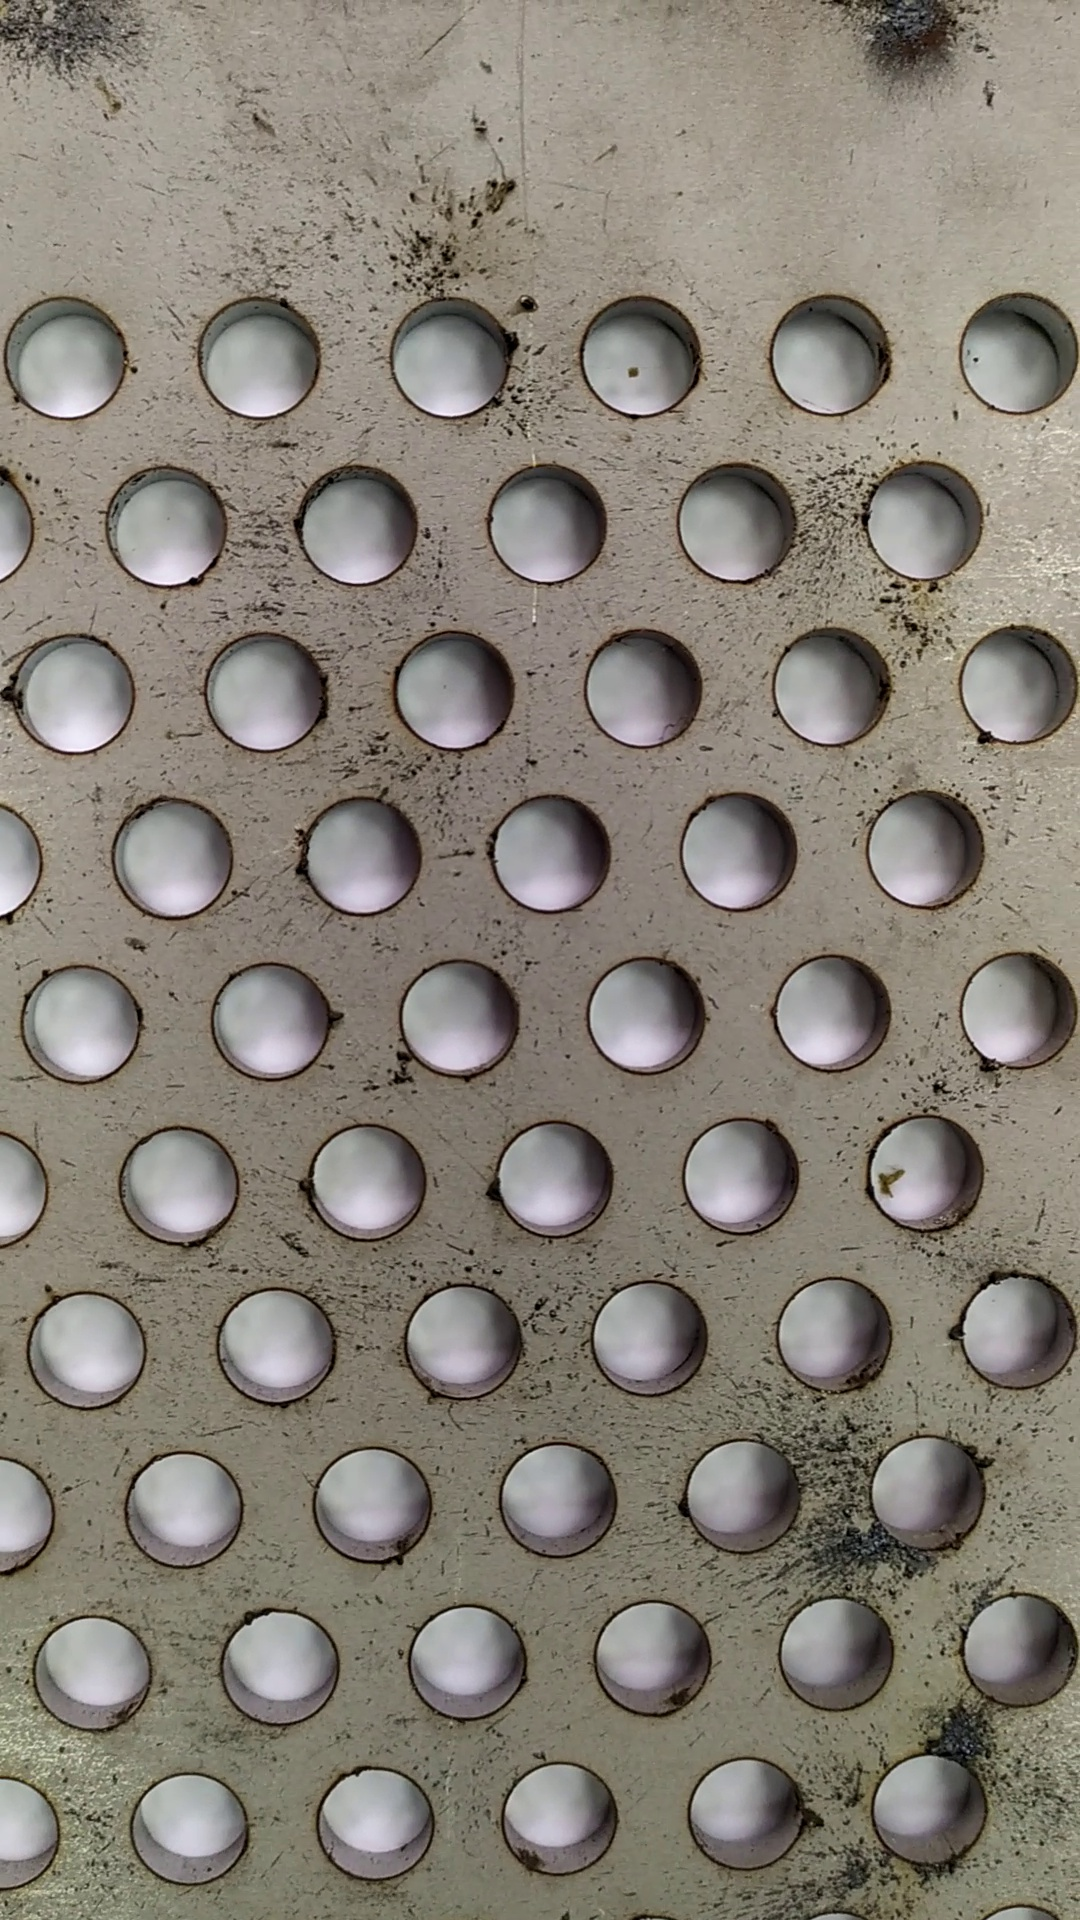Hole: (371, 611, 531, 760), (469, 785, 632, 920), (375, 280, 524, 426), (567, 949, 727, 1085), (858, 779, 1006, 924), (385, 1273, 541, 1408), (578, 1586, 727, 1727), (16, 1280, 173, 1414), (752, 284, 899, 425), (3, 280, 142, 429), (113, 1443, 262, 1582), (575, 611, 712, 762), (113, 1758, 266, 1894), (857, 1102, 998, 1247), (285, 456, 434, 593), (568, 285, 712, 426), (760, 611, 899, 754), (386, 948, 530, 1087), (102, 1120, 249, 1254), (853, 1425, 1004, 1557), (212, 1596, 353, 1735), (305, 1756, 447, 1895), (673, 1746, 820, 1879), (4, 624, 153, 756), (757, 944, 899, 1081), (96, 787, 241, 922), (489, 1750, 638, 1880), (291, 787, 429, 928), (945, 273, 1080, 417), (191, 626, 336, 760), (483, 1116, 624, 1251), (183, 285, 326, 419), (11, 960, 153, 1095), (665, 454, 808, 587), (471, 456, 612, 591), (487, 1433, 628, 1568), (760, 1265, 905, 1395), (206, 956, 345, 1089), (673, 1429, 812, 1563), (206, 1279, 347, 1411), (396, 1597, 538, 1727), (951, 1578, 1080, 1722), (24, 1604, 167, 1731), (302, 1443, 440, 1573), (862, 1741, 1002, 1870), (855, 452, 989, 585), (669, 787, 804, 919), (96, 460, 237, 587), (676, 1106, 806, 1244), (947, 618, 1080, 750), (301, 1116, 434, 1247), (949, 940, 1080, 1075), (949, 1269, 1080, 1403), (585, 1269, 716, 1400), (775, 1578, 898, 1713)
